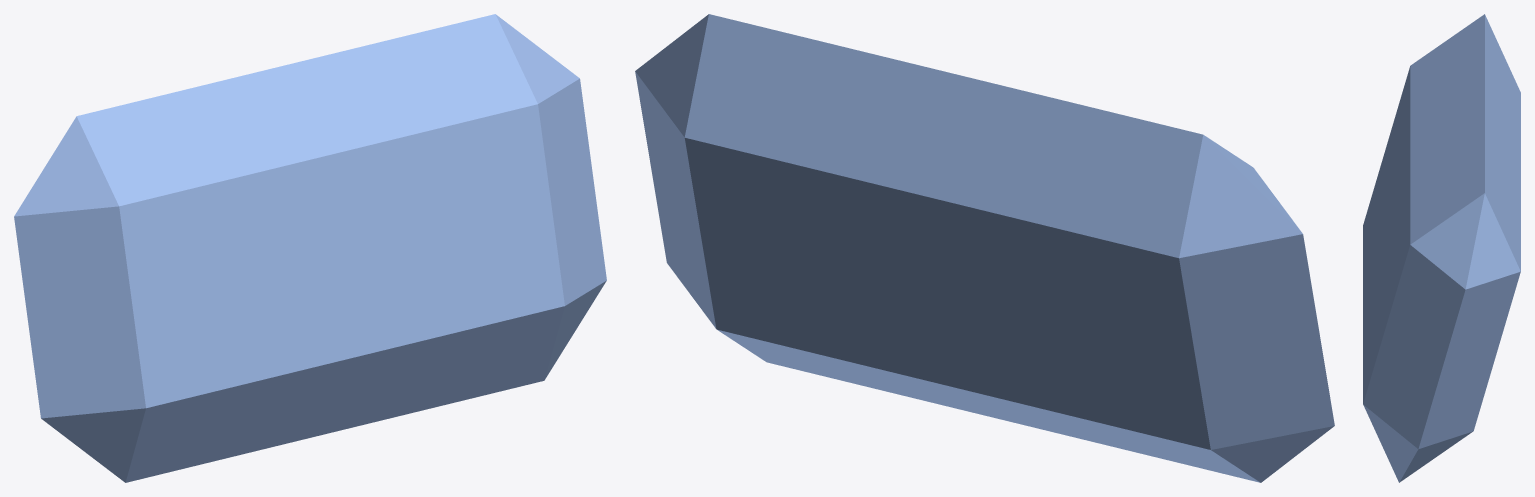
Rendered from pillowBlue.glb.
3 renders of one model, left to right at view 1: azimuth 30°, elevation 25°; view 2: azimuth 150°, elevation 25°; view 3: azimuth 270°, elevation 25°, orthographic. The views are drawn at different scales.
Parts seen in each view (by area): view 1: pillowBlue(Clone); view 2: pillowBlue(Clone); view 3: pillowBlue(Clone).
Boxes of the visible parts, x1,y1,x2,y2 form: pillowBlue(Clone): (14, 14, 606, 482); pillowBlue(Clone): (635, 14, 1334, 482); pillowBlue(Clone): (1363, 14, 1520, 482).
Bounding box in the file's own units: 0.23 × 0.1285 × 0.0634.
